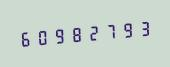eight: (68, 21, 84, 47)
nine: (51, 22, 67, 48), (119, 17, 135, 42)
seven: (102, 18, 118, 44)
six: (17, 25, 33, 51)
three: (136, 15, 152, 41)
two: (85, 20, 101, 45)
zero: (34, 24, 50, 49)
